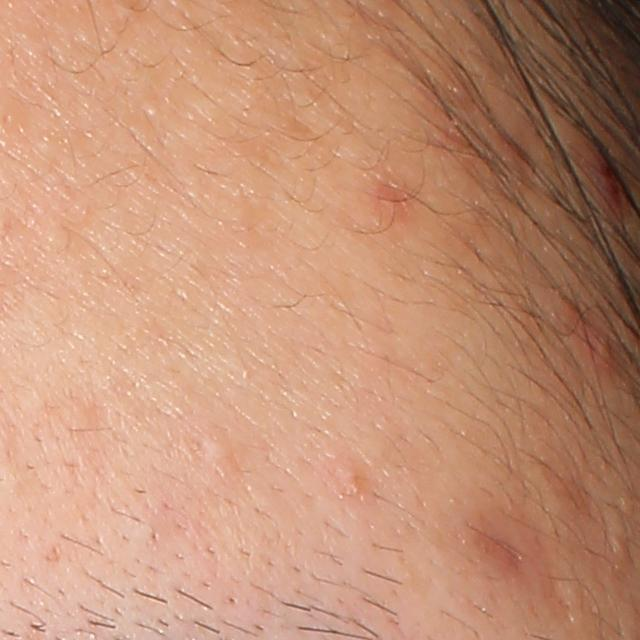atrophic_scar: (461, 510, 533, 583)
comedo: (194, 422, 237, 483)
papule: (579, 135, 623, 203)
